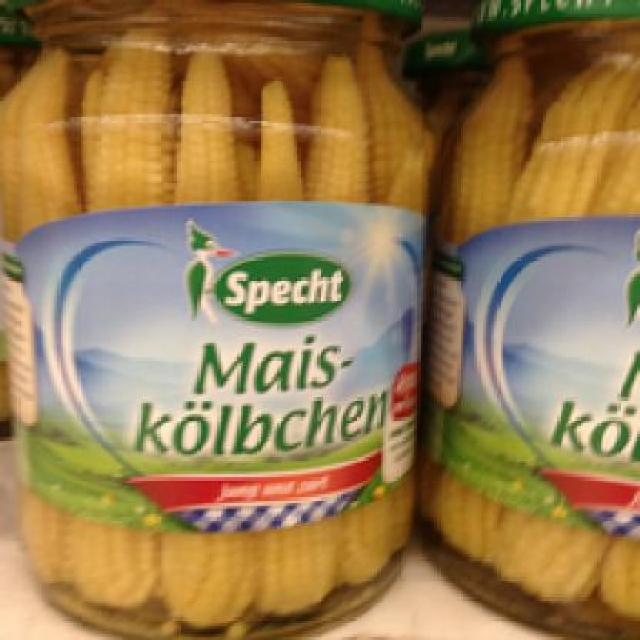Corn: (0, 0, 432, 638), (420, 0, 637, 629)
